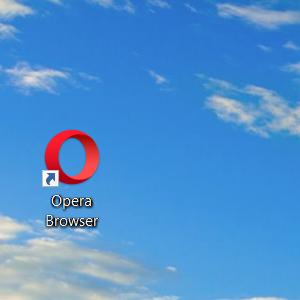opera: (42, 129, 100, 187)
